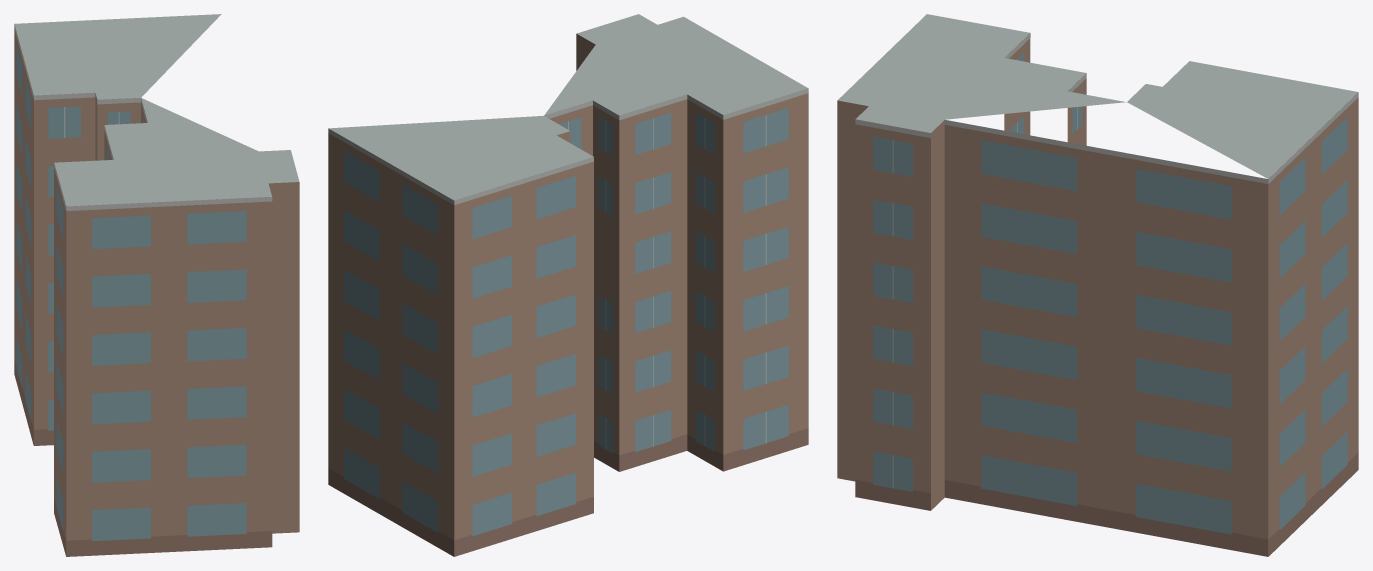
The model's file is survey-upis-32564497.glb.
The picture shows the model from 3 angles, left to right: view 1: azimuth 30°, elevation 25°; view 2: azimuth 150°, elevation 25°; view 3: azimuth 270°, elevation 25°; orthographic projection. The views are drawn at different scales.
Parts seen in each view (by area): view 1: survey-upis-32564497.tmp; view 2: survey-upis-32564497.tmp; view 3: survey-upis-32564497.tmp.
Boxes of the visible parts, <box> form: survey-upis-32564497.tmp: <box>14,14,299,556</box>; survey-upis-32564497.tmp: <box>328,14,808,556</box>; survey-upis-32564497.tmp: <box>837,14,1358,556</box>.
Size of the model in its own units: 17.16 by 18.3 by 22.89.
